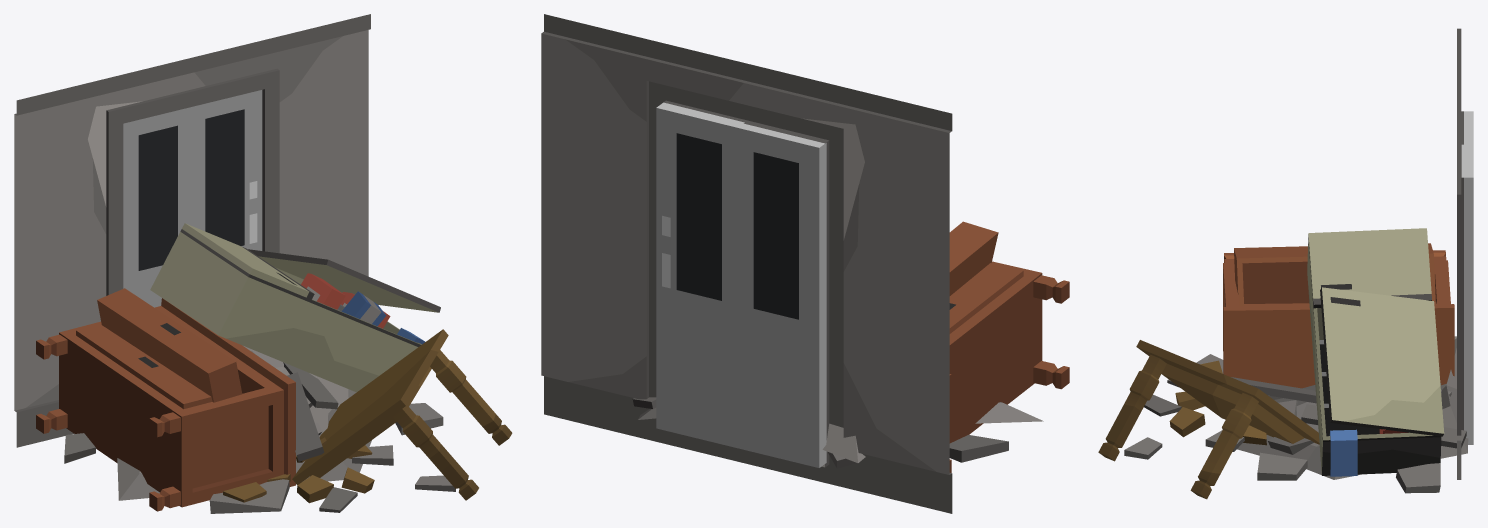
Rendered from AI_Env_Wall_Grey_BlockedDoor_02.fbx.
3 views of the same model, side by side, from view 1: azimuth 30°, elevation 25°; view 2: azimuth 150°, elevation 25°; view 3: azimuth 270°, elevation 25° (orthographic). The views are drawn at different scales.
Visible parts, largest first — view 1: AI_Env_Wall_Grey_BlockedDoor_02; view 2: AI_Env_Wall_Grey_BlockedDoor_02; view 3: AI_Env_Wall_Grey_BlockedDoor_02.
Part boxes in pixels (box(x1,y1,x2,y2)): AI_Env_Wall_Grey_BlockedDoor_02: box(14, 14, 512, 513); AI_Env_Wall_Grey_BlockedDoor_02: box(541, 14, 1069, 513); AI_Env_Wall_Grey_BlockedDoor_02: box(1098, 28, 1473, 499).
Size of the model in its own units: 5.12 by 4.69 by 4.77.
